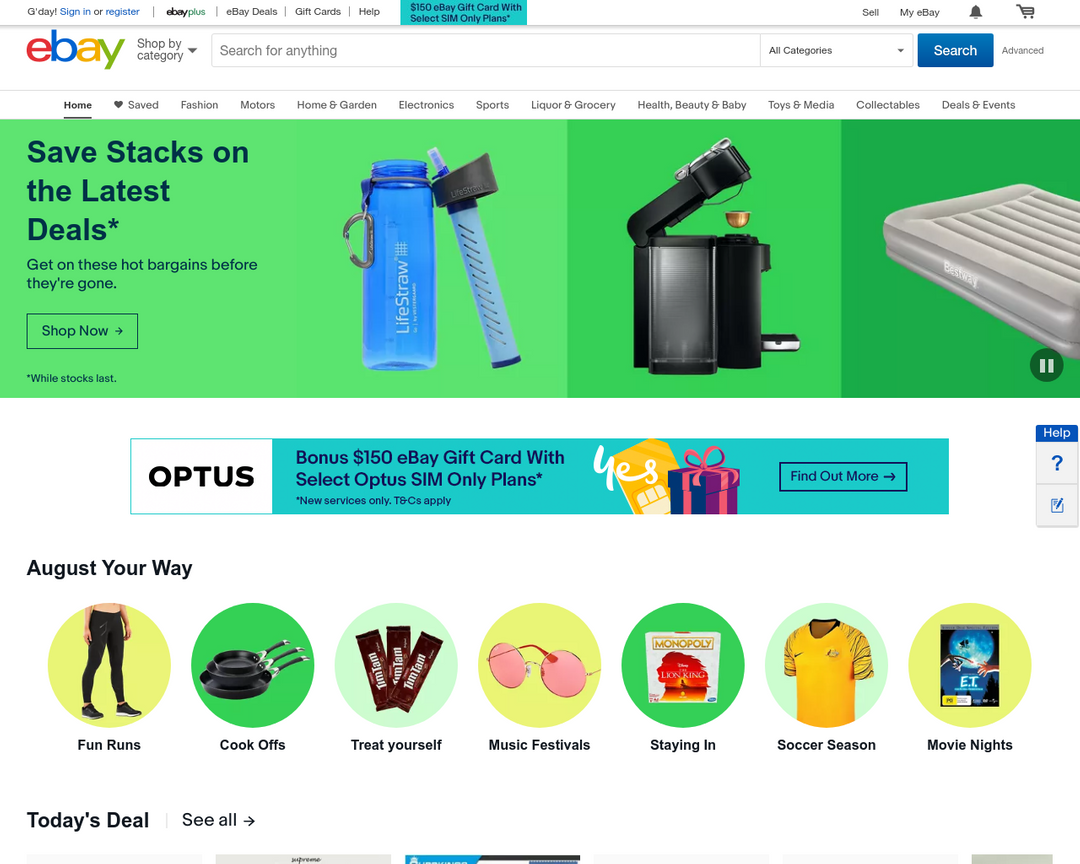Ebay: (20, 28, 130, 74)
